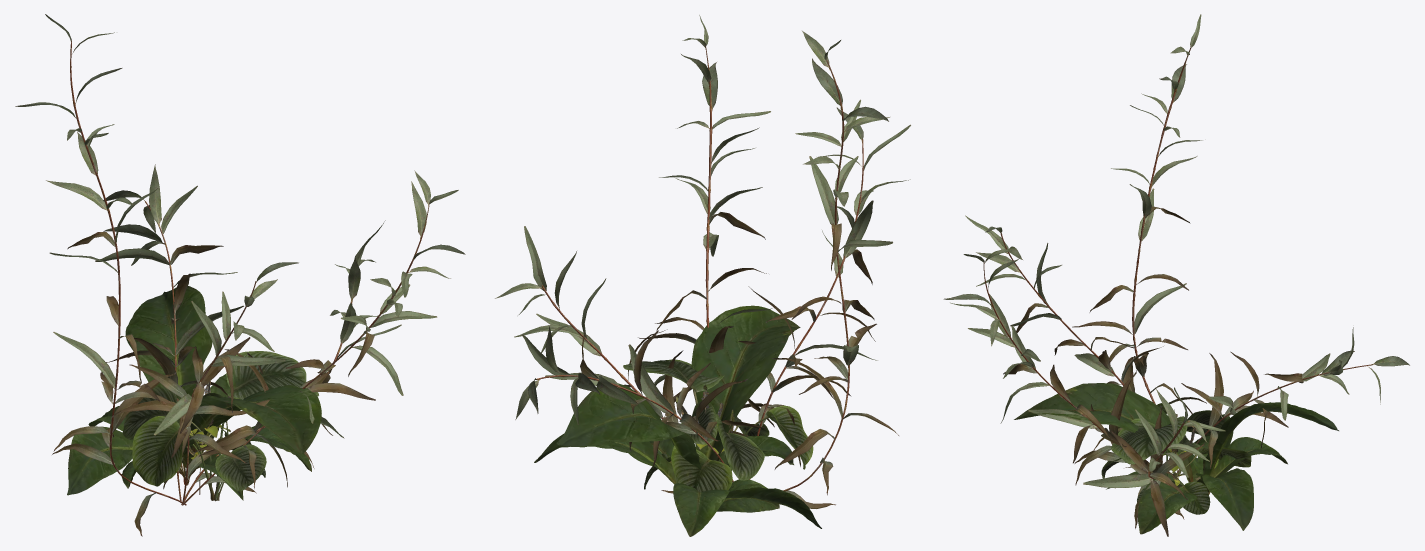
Rendered from plantas.glb.
3 views of the same model, side by side, from view 1: azimuth 30°, elevation 25°; view 2: azimuth 150°, elevation 25°; view 3: azimuth 270°, elevation 25° (orthographic). The views are drawn at different scales.
Visible parts, largest first — view 1: PLANTA|arbusto, PLANTA|tropical, PLANTA|monstera; view 2: PLANTA|arbusto, PLANTA|tropical, PLANTA|monstera; view 3: PLANTA|arbusto, PLANTA|tropical, PLANTA|monstera.
Boxes of the visible parts, left/top/right/bottom form: PLANTA|arbusto: left=15, top=14, right=465, bottom=536; PLANTA|tropical: left=67, top=286, right=321, bottom=500; PLANTA|monstera: left=122, top=351, right=318, bottom=501; PLANTA|arbusto: left=495, top=15, right=910, bottom=511; PLANTA|tropical: left=534, top=305, right=821, bottom=536; PLANTA|monstera: left=623, top=359, right=813, bottom=492; PLANTA|arbusto: left=943, top=14, right=1409, bottom=536; PLANTA|tropical: left=1014, top=383, right=1338, bottom=534; PLANTA|monstera: left=1101, top=403, right=1251, bottom=514.
Bounding box in the file's own units: 1.31 × 1.69 × 1.64.
4 materials, 4 textured.
